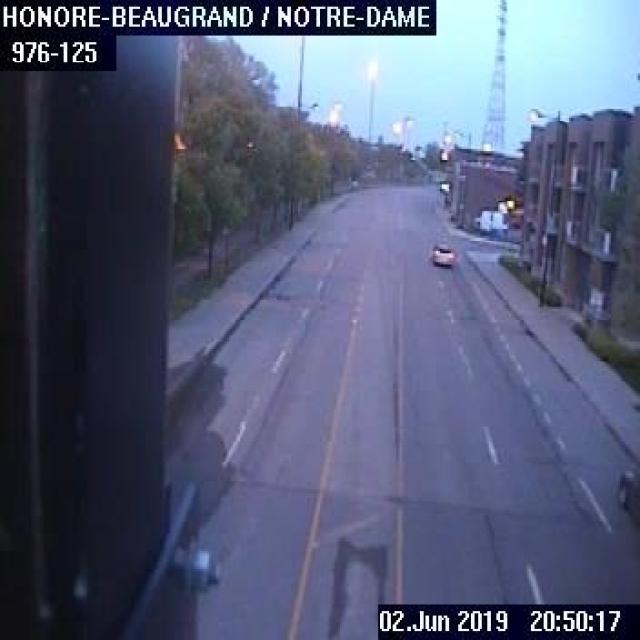vehicle: (613, 464, 638, 516), (429, 240, 453, 268)
